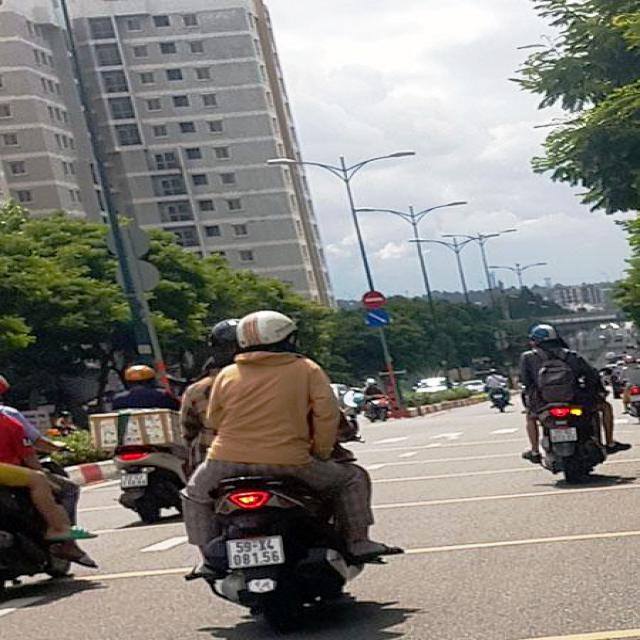license_plate: (227, 535, 285, 571), (552, 427, 579, 443)
